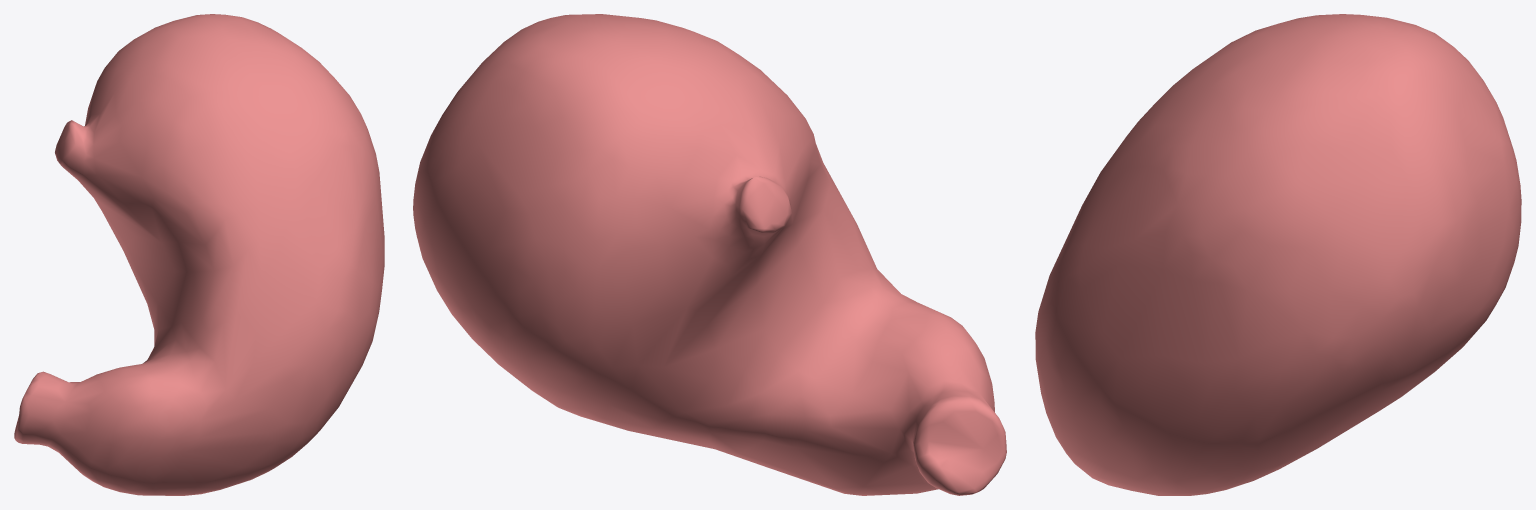
The model's file is Stomach.glb.
3 renders of one model, left to right at view 1: azimuth 30°, elevation 25°; view 2: azimuth 150°, elevation 25°; view 3: azimuth 270°, elevation 25°, orthographic. The views are drawn at different scales.
Visible parts, largest first — view 1: Stomach.001_grp1.846; view 2: Stomach.001_grp1.846; view 3: Stomach.001_grp1.846.
Boxes of the visible parts, x1,y1,x2,y2 form: Stomach.001_grp1.846: (14,14,384,495); Stomach.001_grp1.846: (413,14,1006,495); Stomach.001_grp1.846: (1035,14,1521,495).
Bounding box in the file's own units: 0.1345 × 0.126 × 0.1129.
